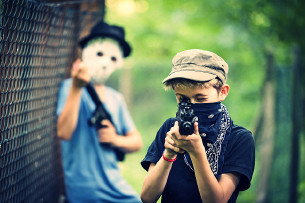face_mask: (175, 86, 216, 123)
